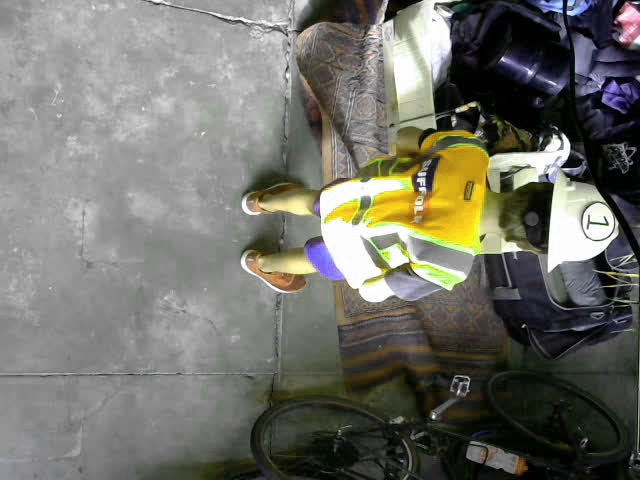one: (581, 202, 616, 241)
